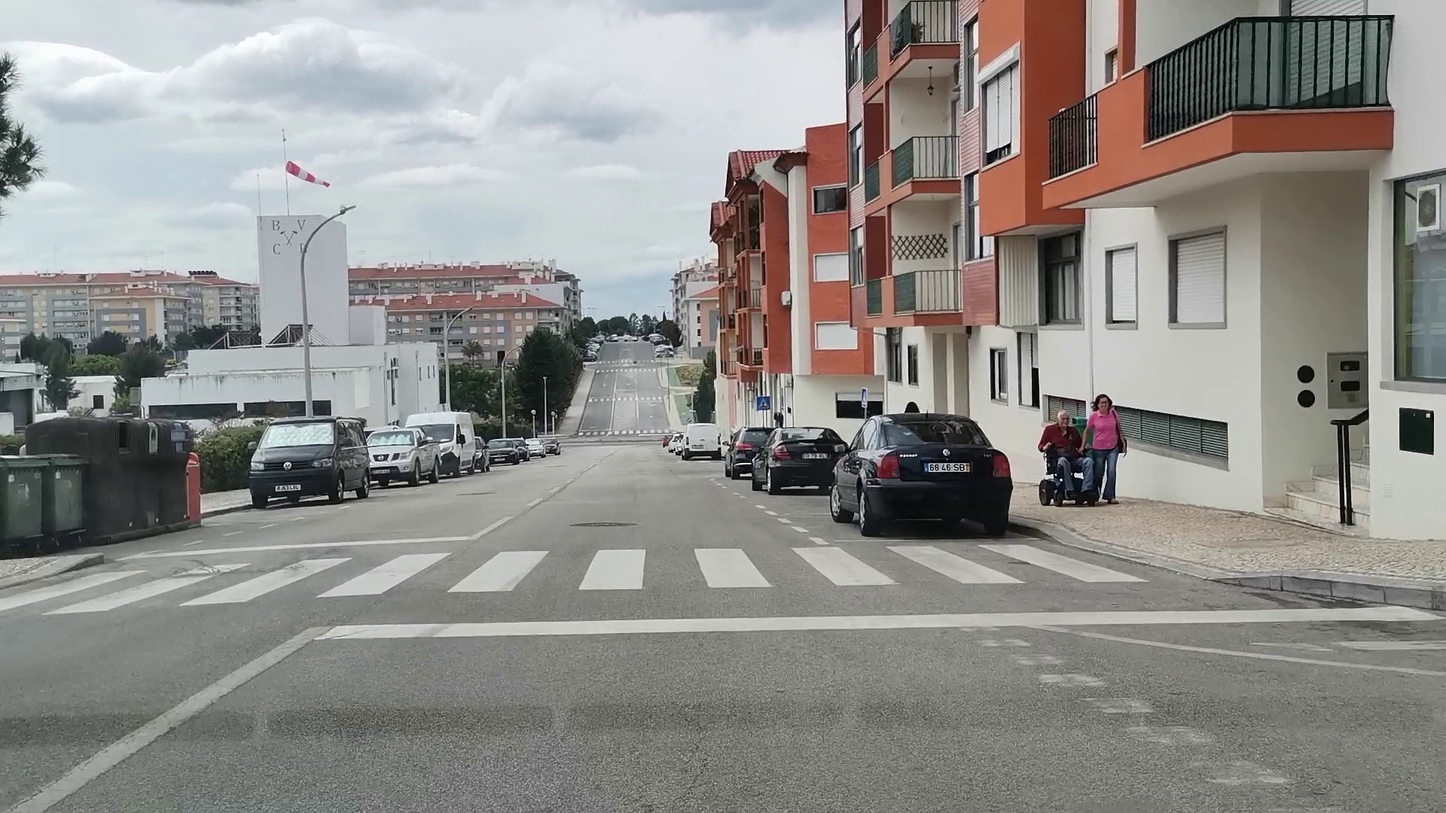Stairs: (0, 546, 1132, 615)
